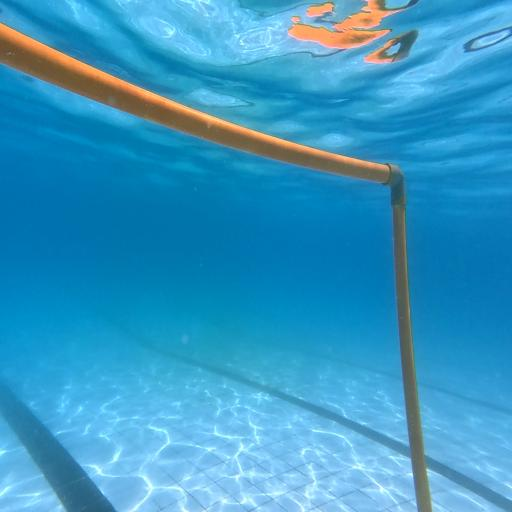gate: (0, 23, 432, 512)
